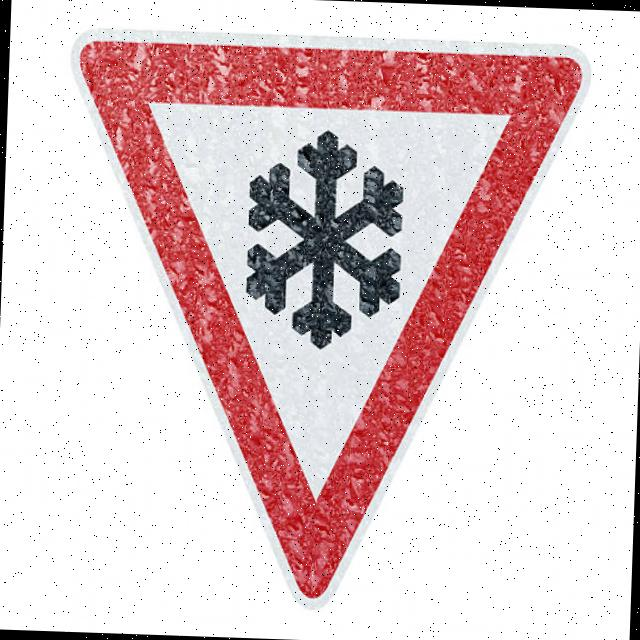snow_warning: (50, 10, 600, 629)
